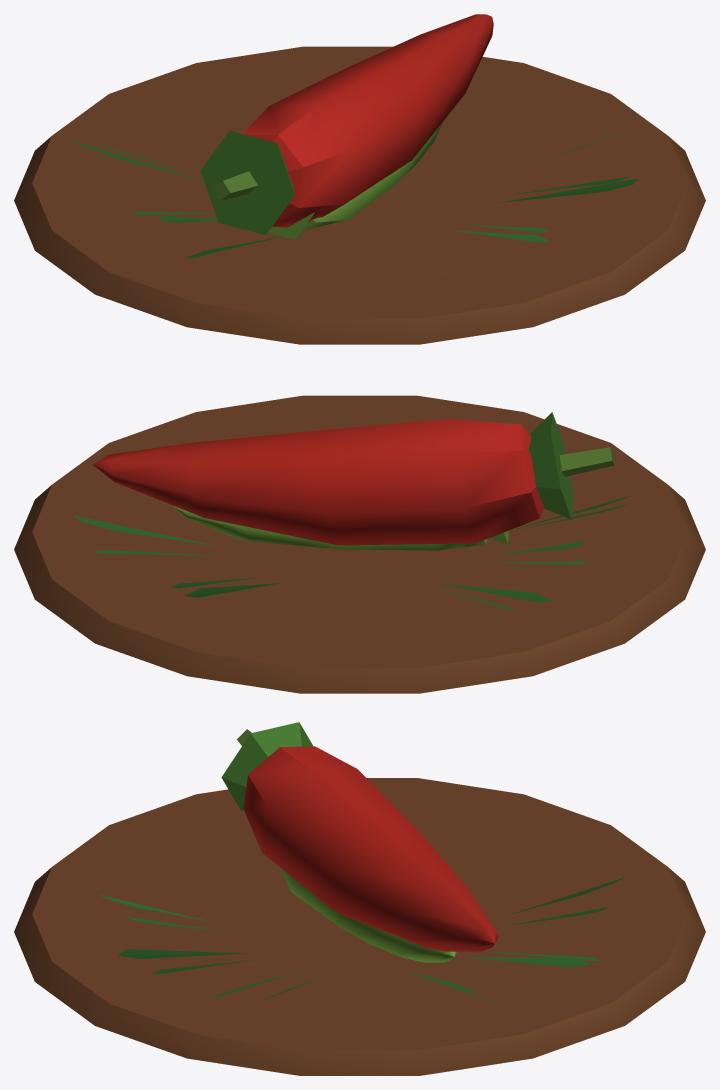
File: paprika-w5.glb
The picture shows the model from 3 angles, top to bottom: view 1: azimuth 30°, elevation 25°; view 2: azimuth 150°, elevation 25°; view 3: azimuth 270°, elevation 25°; orthographic projection.
Visible parts, largest first — view 1: crop-paprika-giant-2, crop-paprika-giant; view 2: crop-paprika-giant-2, crop-paprika-giant; view 3: crop-paprika-giant-2, crop-paprika-giant.
Part boxes in pixels (x1,y1,x2,y2): crop-paprika-giant-2: (14, 46, 705, 344); crop-paprika-giant: (70, 14, 637, 276); crop-paprika-giant-2: (14, 395, 705, 693); crop-paprika-giant: (73, 412, 635, 602); crop-paprika-giant-2: (14, 778, 705, 1075); crop-paprika-giant: (99, 722, 608, 1002).
Size of the model in its own units: 5.61 by 1.26 by 5.7.
